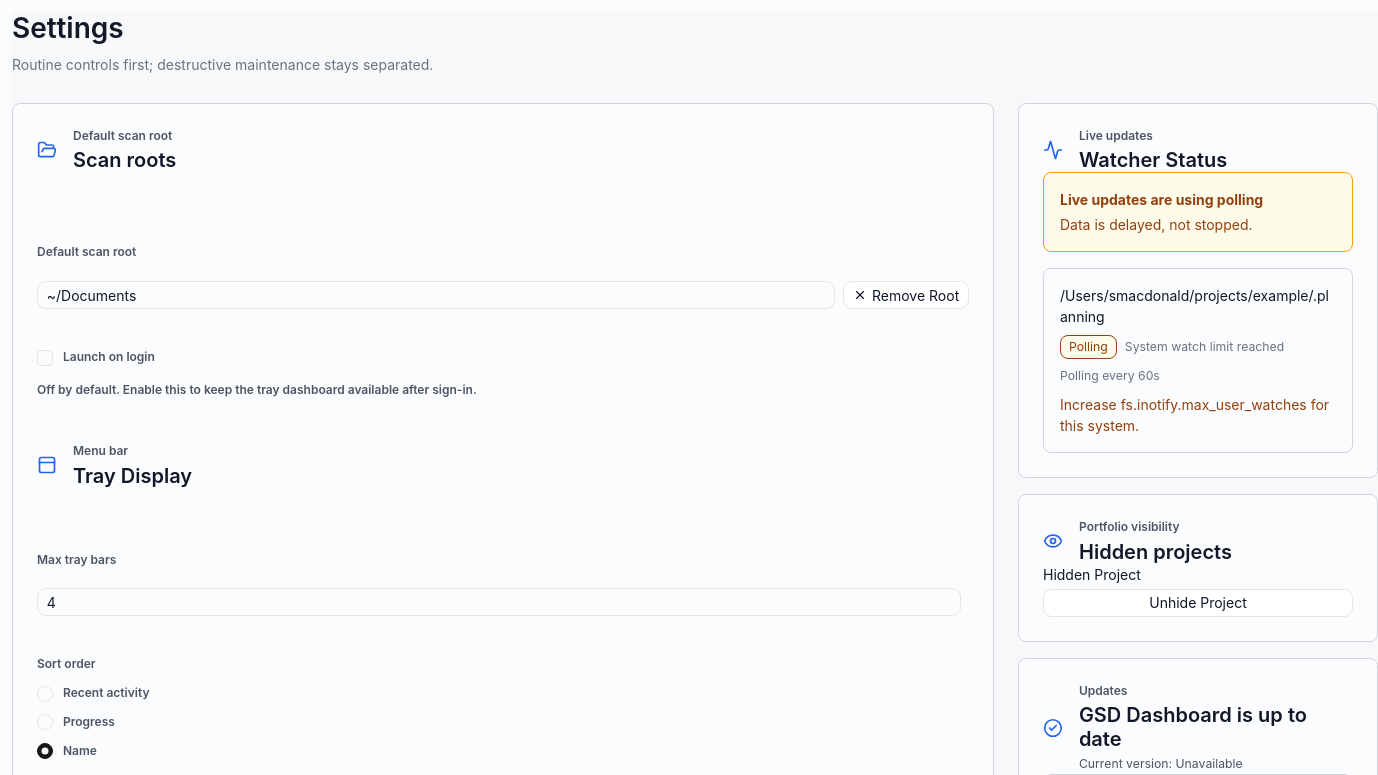
Scenario: SettingsPage live update watcher status › surfaces an unhide failure without changing the save payload shape
Step 1. Click the button "Unhide Project" → (1198, 603), box [1043, 589, 1353, 617]
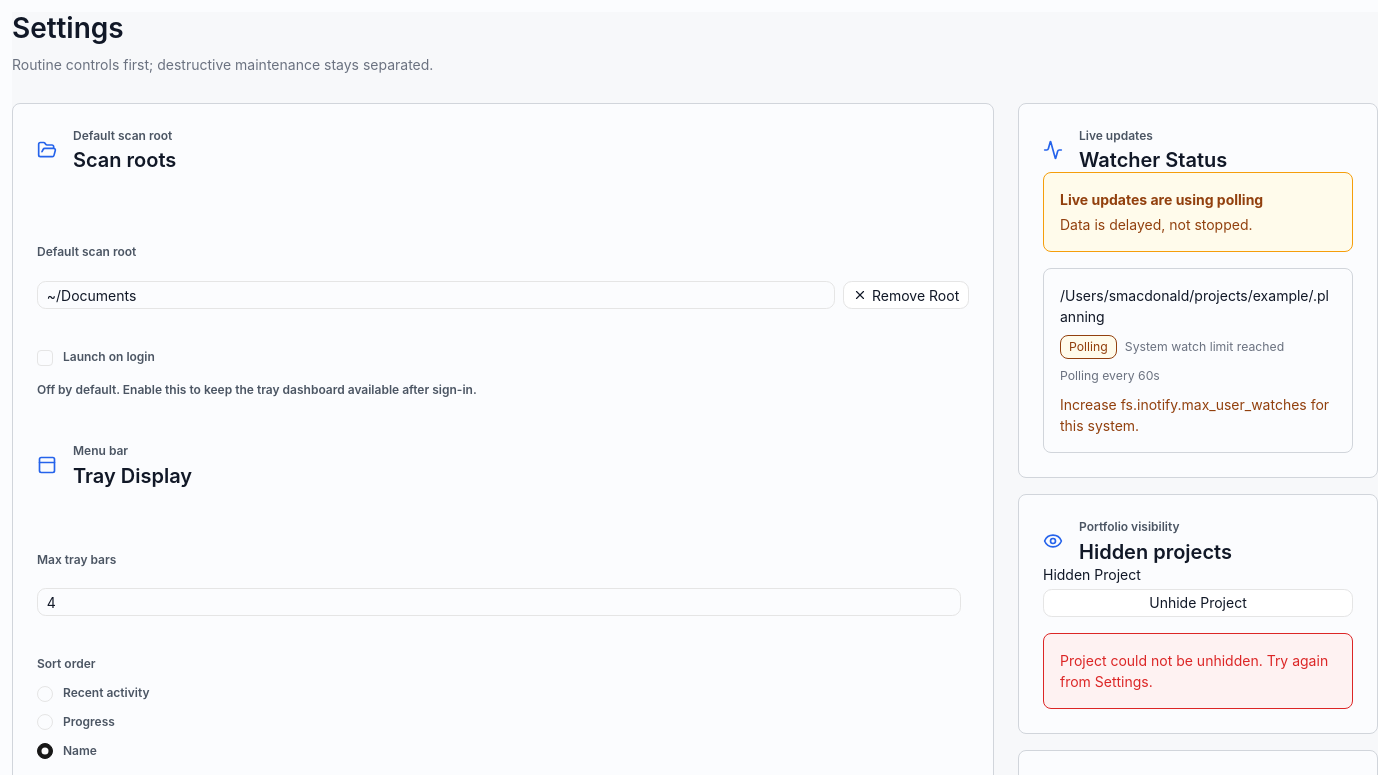
Check: the message "Project could not be unhidden. Try again from Settings." is shown, box [1043, 633, 1353, 709]
